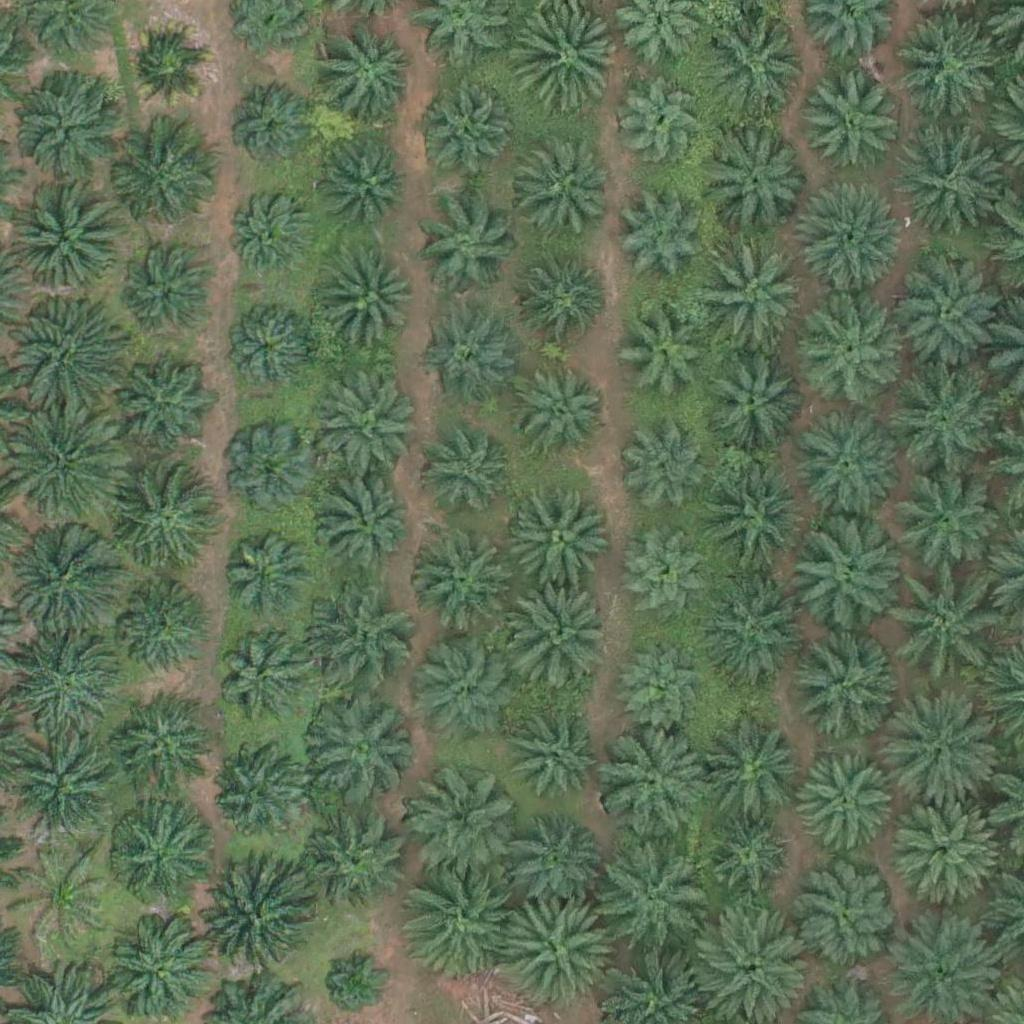Kelapa_Sawit: (889, 698, 1002, 812), (895, 121, 1008, 235), (783, 524, 896, 637), (591, 829, 704, 942), (498, 893, 611, 1006), (403, 634, 516, 747), (403, 753, 516, 866), (395, 867, 508, 980), (300, 694, 413, 807), (199, 863, 312, 976), (888, 257, 1001, 370), (895, 11, 1008, 124), (794, 183, 907, 296), (700, 245, 813, 358), (698, 3, 811, 116), (12, 407, 125, 520), (12, 296, 125, 409), (11, 178, 124, 291), (12, 63, 125, 176), (594, 727, 706, 841), (404, 527, 516, 641), (8, 624, 120, 738), (9, 737, 121, 851), (698, 459, 810, 573), (509, 2, 621, 116), (313, 368, 425, 482), (16, 521, 128, 635), (889, 793, 1001, 906), (896, 568, 1008, 681), (781, 629, 893, 742), (699, 577, 811, 690), (696, 717, 808, 830), (696, 905, 808, 1018), (507, 580, 619, 693), (307, 577, 419, 690), (887, 456, 999, 569), (886, 365, 998, 478), (793, 412, 905, 525), (502, 481, 614, 594), (108, 122, 220, 235), (110, 472, 222, 585), (795, 755, 895, 856), (795, 867, 895, 968), (505, 812, 605, 913), (509, 699, 609, 800), (309, 813, 409, 914), (206, 745, 306, 846), (15, 841, 115, 942), (805, 70, 905, 171), (801, 307, 901, 408), (697, 351, 797, 452), (708, 134, 808, 235), (507, 359, 607, 460), (414, 84, 514, 185), (419, 428, 519, 529), (319, 20, 419, 121), (219, 420, 319, 521), (111, 360, 211, 461), (112, 703, 212, 803), (105, 804, 205, 904), (508, 137, 608, 237), (417, 194, 517, 294), (417, 318, 517, 418), (322, 254, 422, 354), (315, 475, 415, 575), (220, 299, 320, 399), (700, 813, 788, 901), (617, 643, 705, 731), (217, 632, 305, 720), (114, 586, 202, 674), (620, 308, 708, 396), (625, 428, 713, 516), (513, 253, 601, 341), (321, 137, 409, 225), (220, 529, 308, 617), (227, 88, 315, 176), (227, 193, 315, 281), (617, 79, 704, 167), (618, 198, 705, 286), (620, 533, 707, 621), (122, 23, 209, 111), (119, 244, 206, 332), (319, 942, 394, 1017)
